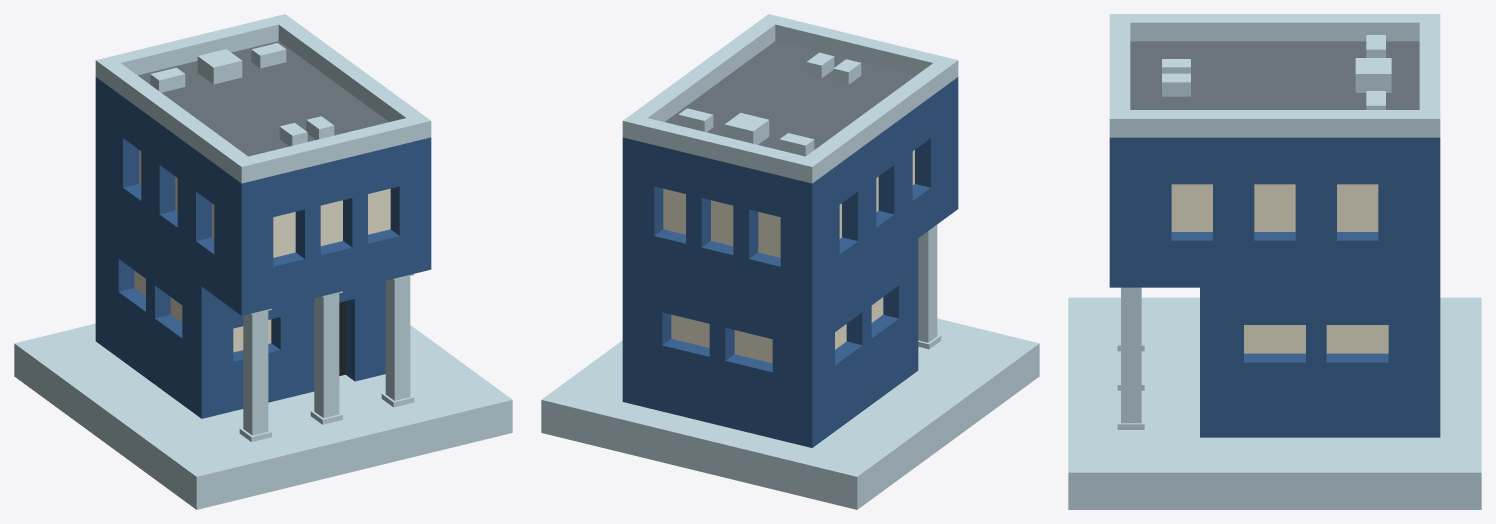
The model's file is Building_7_Base_Extra (Blue).obj.
3 renders of one model, left to right at view 1: azimuth 30°, elevation 25°; view 2: azimuth 150°, elevation 25°; view 3: azimuth 270°, elevation 25°, orthographic. The views are drawn at different scales.
Parts seen in each view (by area): view 1: Building_7_Base_Extra_(Blue); view 2: Building_7_Base_Extra_(Blue); view 3: Building_7_Base_Extra_(Blue).
Boxes of the visible parts, x1,y1,x2,y2 form: Building_7_Base_Extra_(Blue): (14, 14, 512, 509); Building_7_Base_Extra_(Blue): (541, 14, 1039, 509); Building_7_Base_Extra_(Blue): (1068, 14, 1481, 509).
Size of the model in its own units: 2 by 1.9 by 2.
